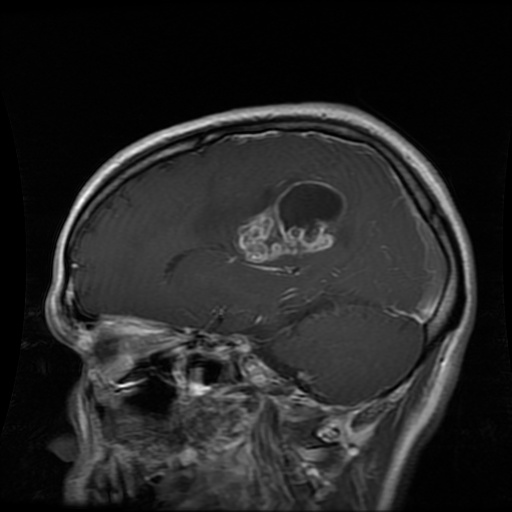glioma: (240, 180, 348, 264)
